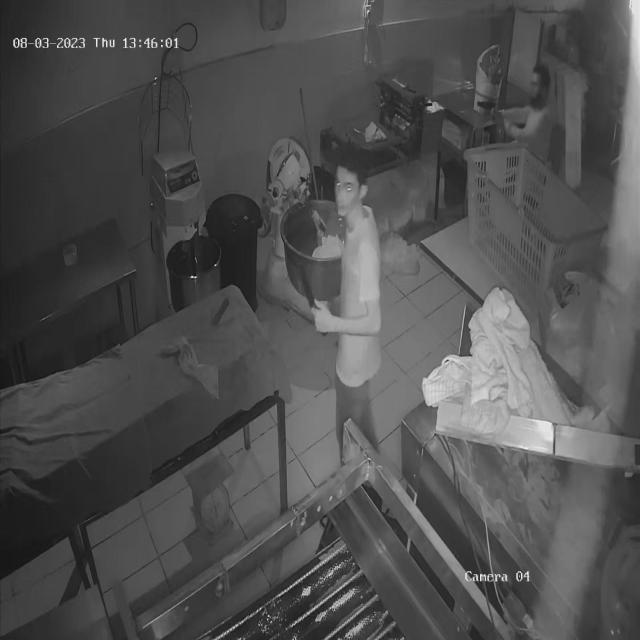Knife: (294, 270, 328, 324)
